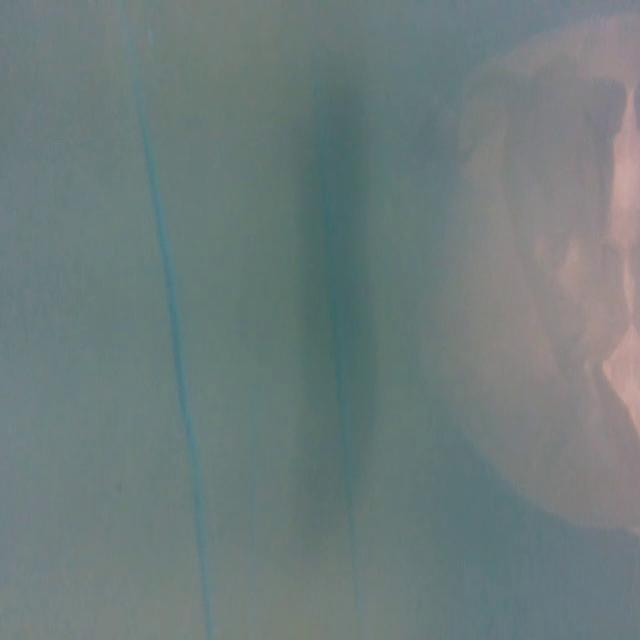plastic bags: (422, 8, 640, 539)
